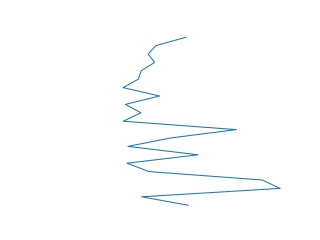crevasseRiverBedLagDeposit: (119, 34, 285, 210)
